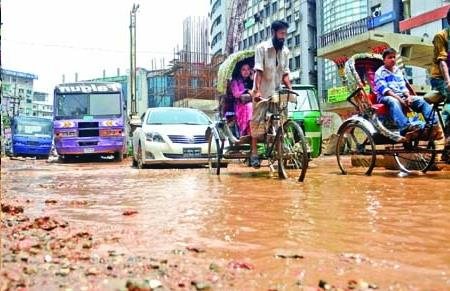Rickshaw: (208, 42, 312, 195), (331, 51, 436, 181)
